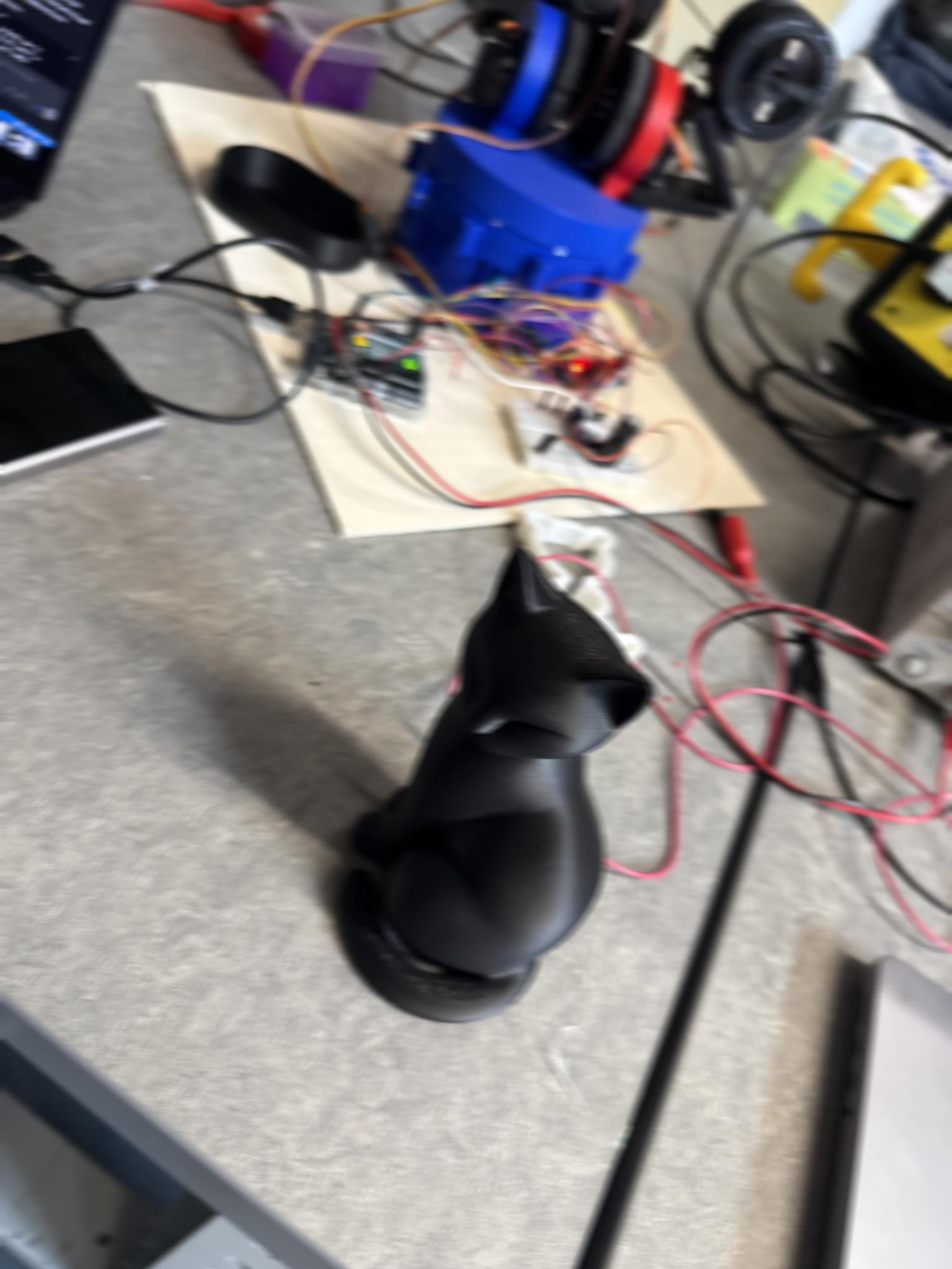cat: (320, 522, 655, 1034)
